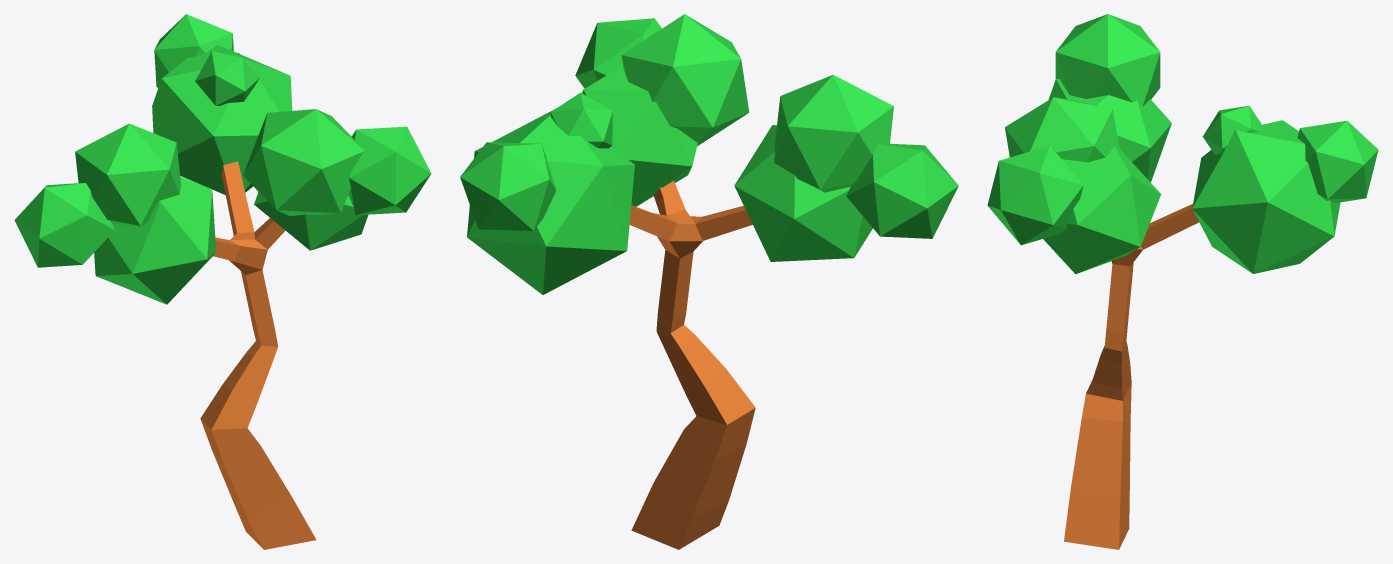
The model's file is pohon2.fbx.
3 renders of one model, left to right at view 1: azimuth 30°, elevation 25°; view 2: azimuth 150°, elevation 25°; view 3: azimuth 270°, elevation 25°, orthographic. The views are drawn at different scales.
Parts seen in each view (by area): view 1: Cube.023, Icosphere.012, Icosphere.011, Icosphere.014, Icosphere.007, Icosphere.006, Icosphere.010, Icosphere.013, Icosphere.008, Icosphere.009; view 2: Cube.023, Icosphere.012, Icosphere.011, Icosphere.007, Icosphere.014, Icosphere.006, Icosphere.013, Icosphere.008, Icosphere.010, Icosphere.009; view 3: Icosphere.012, Cube.023, Icosphere.013, Icosphere.007, Icosphere.010, Icosphere.011, Icosphere.008, Icosphere.014, Icosphere.009.
Boxes of the visible parts, <box> form: Cube.023: <box>200,161,316,549</box>; Icosphere.012: <box>152,45,292,194</box>; Icosphere.011: <box>243,109,363,215</box>; Icosphere.014: <box>94,176,216,304</box>; Icosphere.007: <box>75,123,181,227</box>; Icosphere.006: <box>14,183,114,267</box>; Icosphere.010: <box>348,126,431,215</box>; Icosphere.013: <box>254,192,368,250</box>; Icosphere.008: <box>154,14,233,87</box>; Icosphere.009: <box>195,51,259,105</box>; Cube.023: <box>629,181,755,549</box>; Icosphere.012: <box>467,109,634,294</box>; Icosphere.011: <box>621,14,749,146</box>; Icosphere.007: <box>774,75,893,192</box>; Icosphere.014: <box>734,125,872,261</box>; Icosphere.006: <box>846,143,958,238</box>; Icosphere.013: <box>582,65,697,206</box>; Icosphere.008: <box>460,142,556,230</box>; Icosphere.010: <box>575,18,661,88</box>; Icosphere.009: <box>550,92,612,148</box>; Icosphere.012: <box>1192,120,1340,273</box>; Cube.023: <box>1064,204,1198,549</box>; Icosphere.013: <box>1043,146,1161,274</box>; Icosphere.007: <box>1055,14,1160,106</box>; Icosphere.010: <box>987,145,1083,245</box>; Icosphere.011: <box>1005,97,1119,162</box>; Icosphere.008: <box>1297,120,1378,202</box>; Icosphere.014: <box>1048,79,1171,182</box>; Icosphere.009: <box>1202,105,1264,154</box>.
Bounding box in the file's own units: 270 × 323 × 253.
